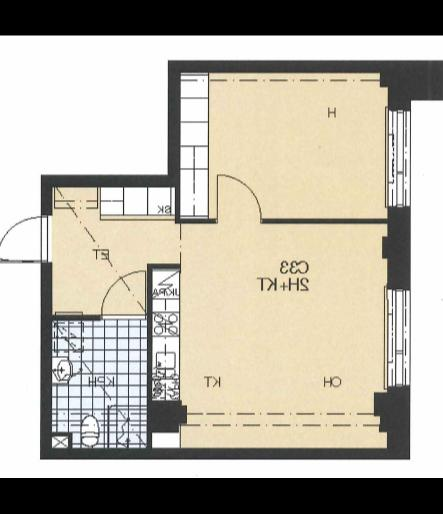bathroom: (53, 320, 146, 448)
door: (0, 211, 53, 266), (211, 171, 264, 226), (98, 270, 147, 322)
perimeter: (40, 61, 408, 460)
window: (380, 285, 411, 392), (382, 106, 413, 212)
